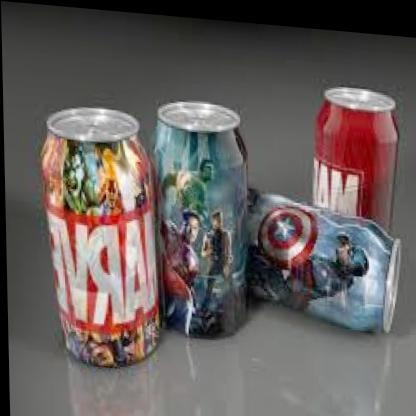trash: (42, 107, 158, 366), (248, 190, 400, 332), (155, 101, 246, 335), (313, 87, 397, 229)
